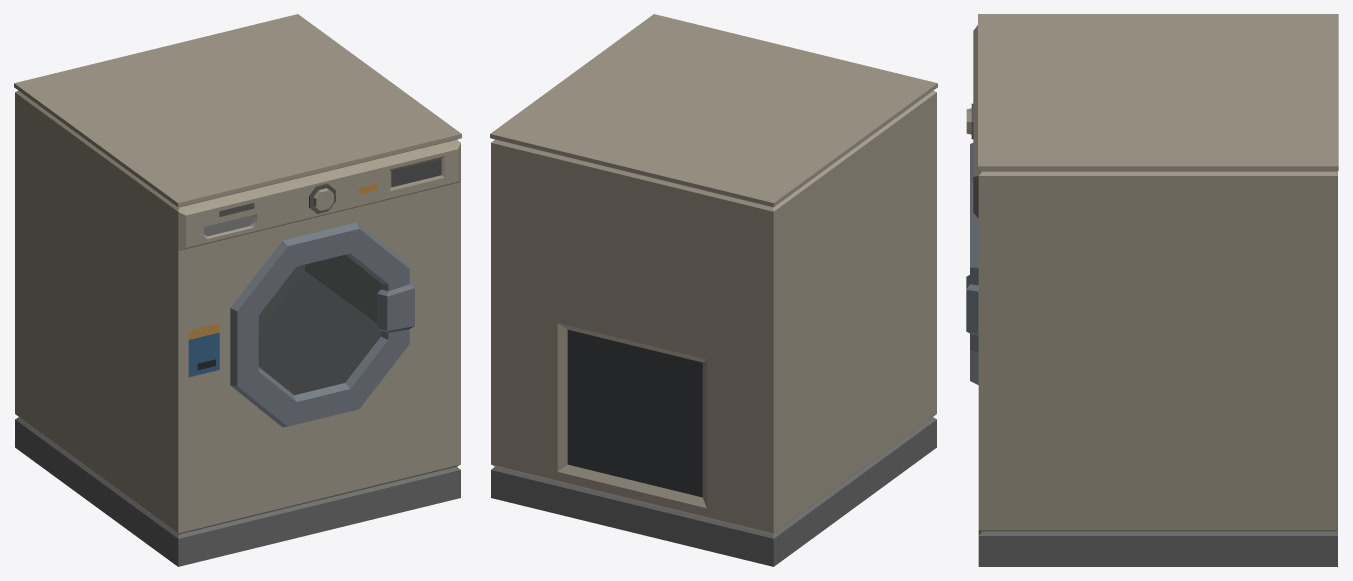
The model's file is SM_Prop_Laundry_Washer_01.fbx.
The picture shows the model from 3 angles, left to right: view 1: azimuth 30°, elevation 25°; view 2: azimuth 150°, elevation 25°; view 3: azimuth 270°, elevation 25°; orthographic projection. The views are drawn at different scales.
Visible parts, largest first — view 1: SM_Prop_Laundry_Washer_01, SM_Prop_Laundry_Washer_Door_01; view 2: SM_Prop_Laundry_Washer_01; view 3: SM_Prop_Laundry_Washer_01, SM_Prop_Laundry_Washer_Door_01.
Boxes of the visible parts, x1,y1,x2,y2 form: SM_Prop_Laundry_Washer_01: (14,14,461,566); SM_Prop_Laundry_Washer_Door_01: (230,222,414,427); SM_Prop_Laundry_Washer_01: (490,14,937,566); SM_Prop_Laundry_Washer_01: (966,14,1338,566); SM_Prop_Laundry_Washer_Door_01: (966,143,978,384).
Bounding box in the file's own units: 100 × 123 × 104.
